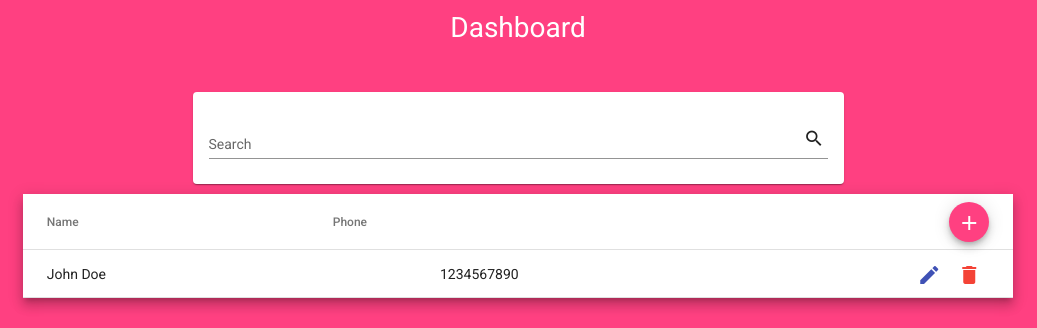
Test: App › Dashboard › should remove user
Step 1. Click the picture with id "delete-button" → (969, 275), box top-left (957, 263), bottom-right (981, 287)
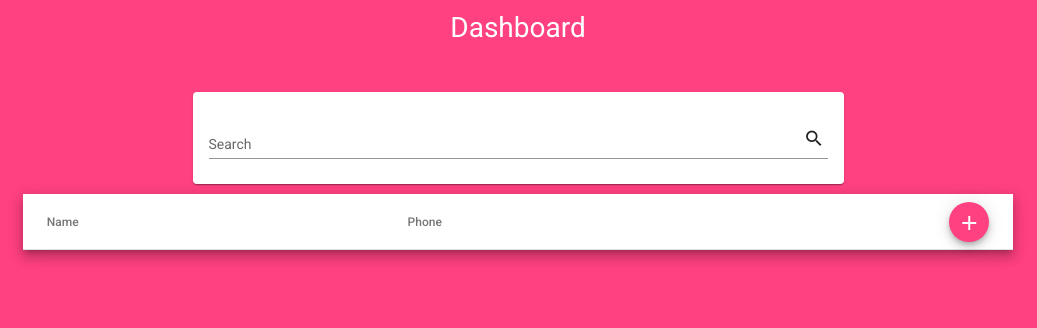
Now the text "John Doe" is gone
Now the text "1234567890" is gone
